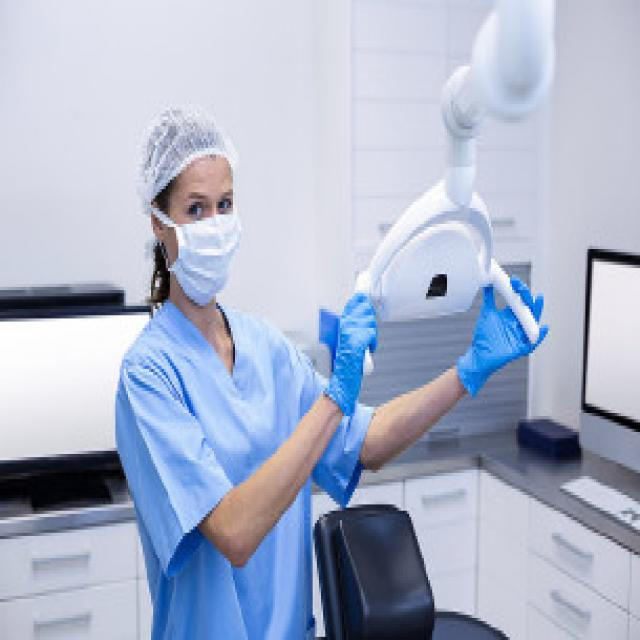mask: (167, 156, 236, 298)
